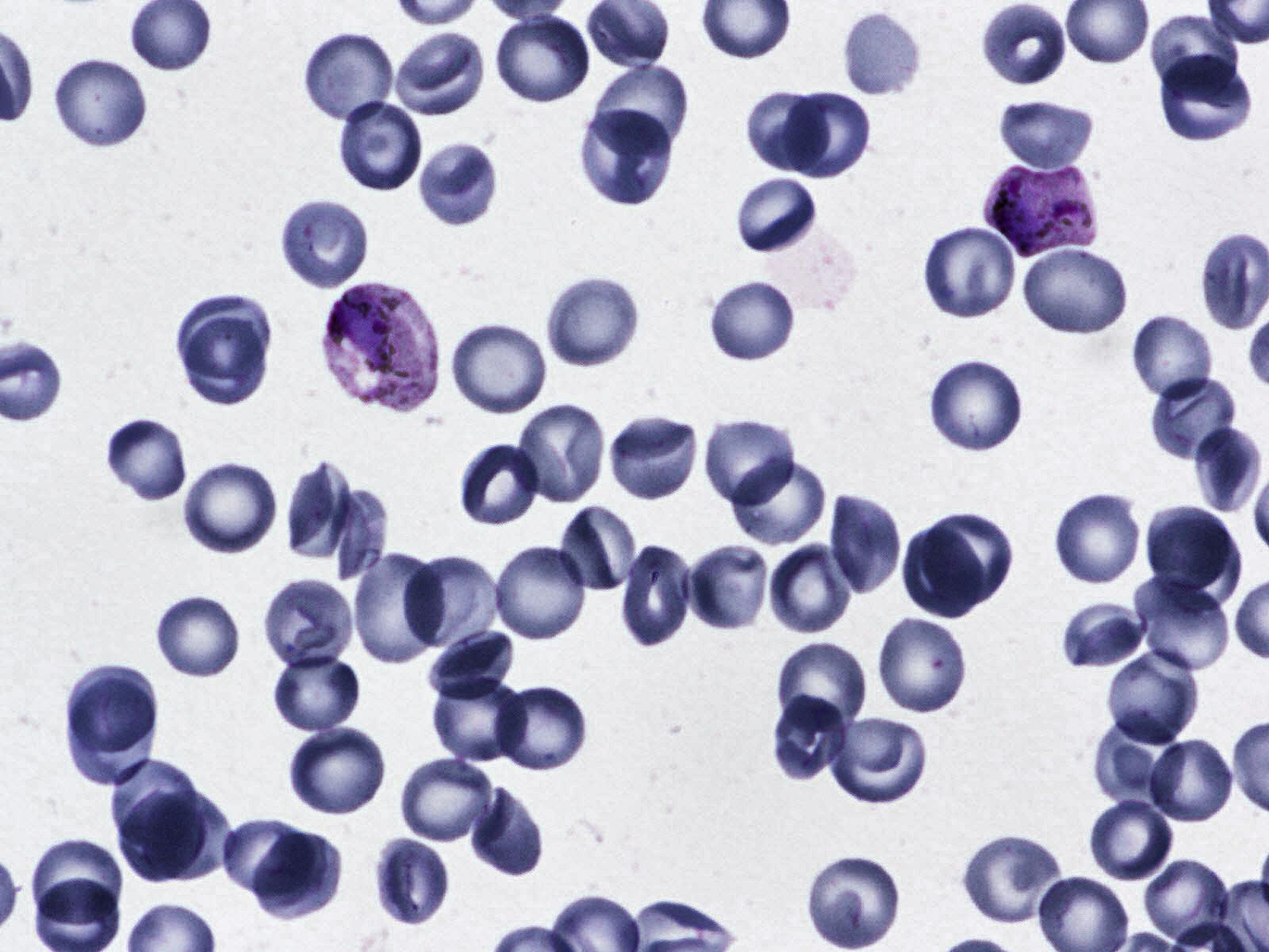Infected: (320, 282, 439, 413), (980, 158, 1102, 259)
Uninfected: (402, 550, 500, 657), (876, 610, 971, 718), (180, 456, 280, 558), (445, 321, 550, 417), (357, 543, 439, 665), (918, 506, 1014, 610), (590, 60, 695, 155), (513, 398, 607, 504), (49, 55, 151, 152), (489, 543, 588, 642), (1131, 573, 1228, 674), (67, 681, 158, 788), (966, 832, 1069, 926), (489, 13, 593, 106), (1021, 244, 1127, 335), (542, 274, 642, 370), (805, 849, 899, 951), (926, 358, 1026, 453), (299, 29, 396, 126), (729, 454, 830, 547), (1094, 712, 1187, 813), (1109, 643, 1199, 747), (425, 670, 525, 763), (920, 225, 1021, 317), (1144, 503, 1238, 601), (829, 716, 929, 808), (699, 417, 801, 507), (262, 578, 357, 674), (401, 757, 500, 849), (287, 725, 388, 814), (1137, 856, 1232, 950), (581, 108, 676, 202), (770, 647, 873, 733), (335, 94, 420, 198), (496, 683, 590, 777), (142, 790, 236, 884), (175, 290, 269, 383), (606, 413, 704, 502), (1150, 10, 1240, 106), (250, 832, 347, 921), (278, 199, 372, 290), (30, 835, 121, 929), (1162, 56, 1258, 145), (62, 666, 158, 755), (1053, 490, 1141, 586), (1086, 792, 1176, 885), (768, 541, 857, 635), (742, 83, 837, 171), (821, 486, 899, 593), (687, 539, 773, 635), (615, 541, 690, 651), (1150, 372, 1238, 465), (394, 31, 489, 117), (269, 650, 365, 735), (1142, 737, 1236, 823), (554, 501, 645, 589), (1129, 312, 1217, 402), (109, 760, 200, 847), (182, 315, 269, 406), (121, 793, 206, 886), (786, 92, 873, 182), (221, 820, 323, 896), (155, 592, 243, 679), (842, 7, 925, 97), (417, 141, 500, 231), (771, 692, 851, 785), (106, 416, 189, 505), (987, 7, 1070, 96), (285, 460, 357, 562), (903, 526, 984, 616), (998, 98, 1098, 170), (710, 281, 796, 363), (372, 836, 448, 927), (459, 447, 540, 529), (472, 786, 543, 879), (427, 629, 518, 700), (1194, 426, 1264, 516), (733, 183, 819, 255), (332, 483, 392, 585), (1061, 605, 1146, 670)
